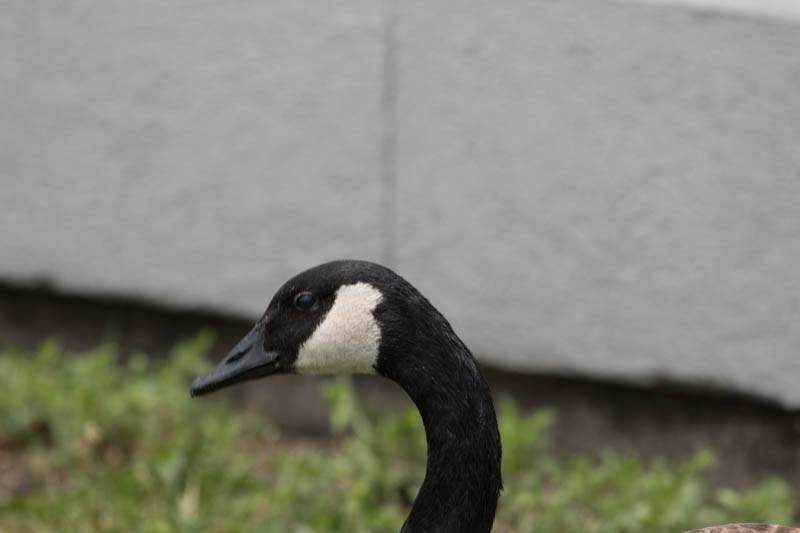goose-head: (189, 260, 422, 399)
